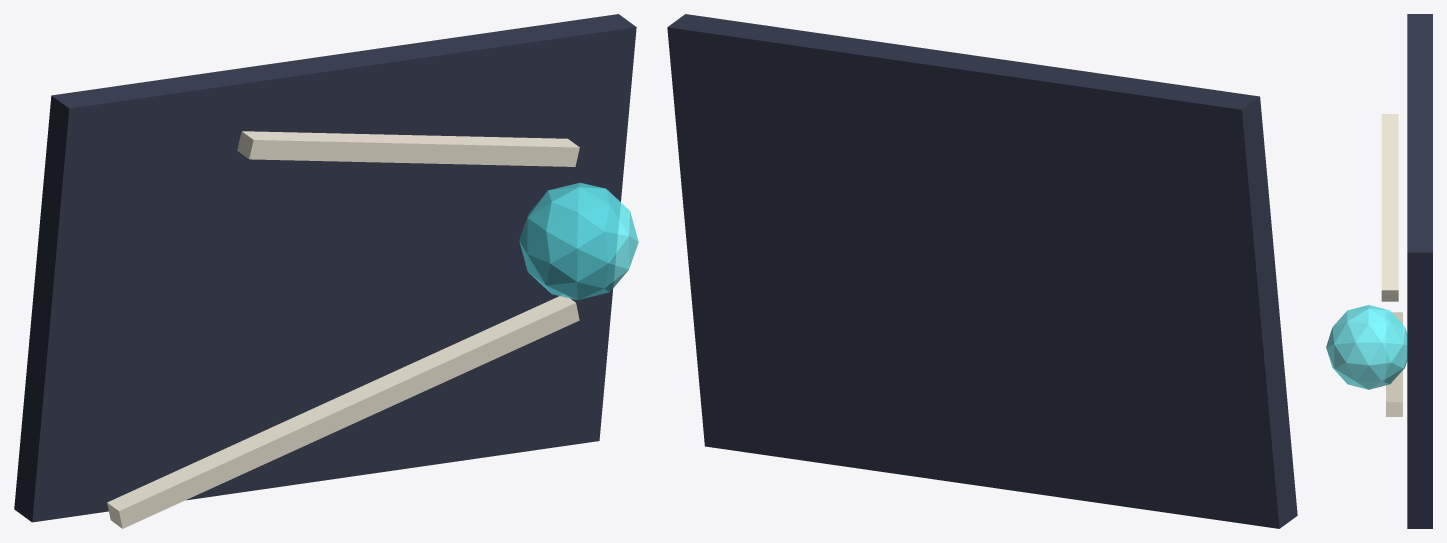
File: 02_world_prop_polish.glb
3 views of the same model, side by side, from view 1: azimuth 30°, elevation 25°; view 2: azimuth 150°, elevation 25°; view 3: azimuth 270°, elevation 25° (orthographic). The views are drawn at different scales.
Visible parts, largest first — view 1: object_overlay_plate, edge_wear_a, glow_socket, edge_wear_b; view 2: object_overlay_plate; view 3: object_overlay_plate, glow_socket, edge_wear_b, edge_wear_a.
Boxes of the visible parts, x1,y1,x2,y2 form: object_overlay_plate: (14, 14, 636, 522); edge_wear_a: (107, 295, 579, 528); glow_socket: (519, 182, 638, 299); edge_wear_b: (237, 131, 579, 166); object_overlay_plate: (667, 14, 1297, 528); object_overlay_plate: (1407, 14, 1432, 528); glow_socket: (1326, 305, 1407, 389); edge_wear_b: (1381, 114, 1398, 301); edge_wear_a: (1386, 312, 1402, 416).
Bounding box in the file's own units: 1.17 × 0.8516 × 0.25.
